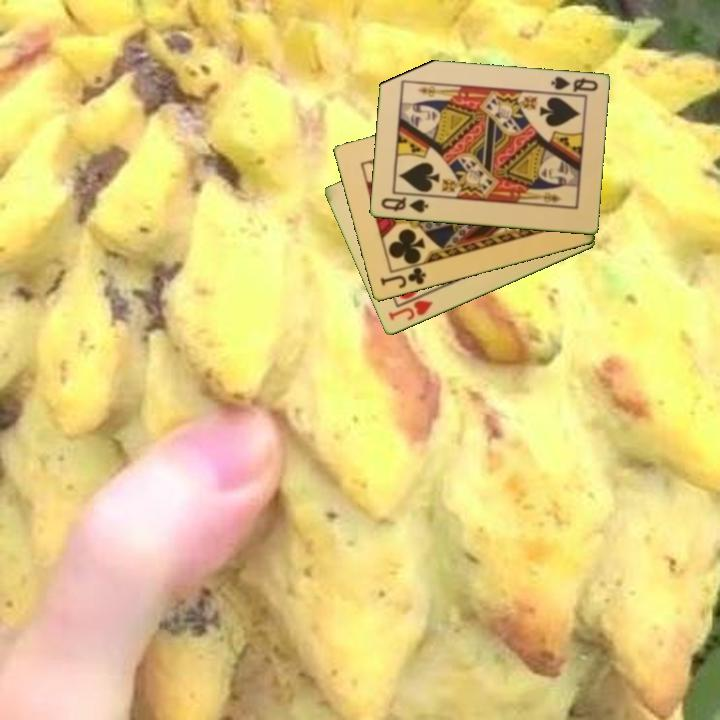Jc: (376, 264, 429, 292)
Jh: (384, 289, 436, 324)
Qs: (545, 73, 600, 98), (377, 194, 431, 216)
